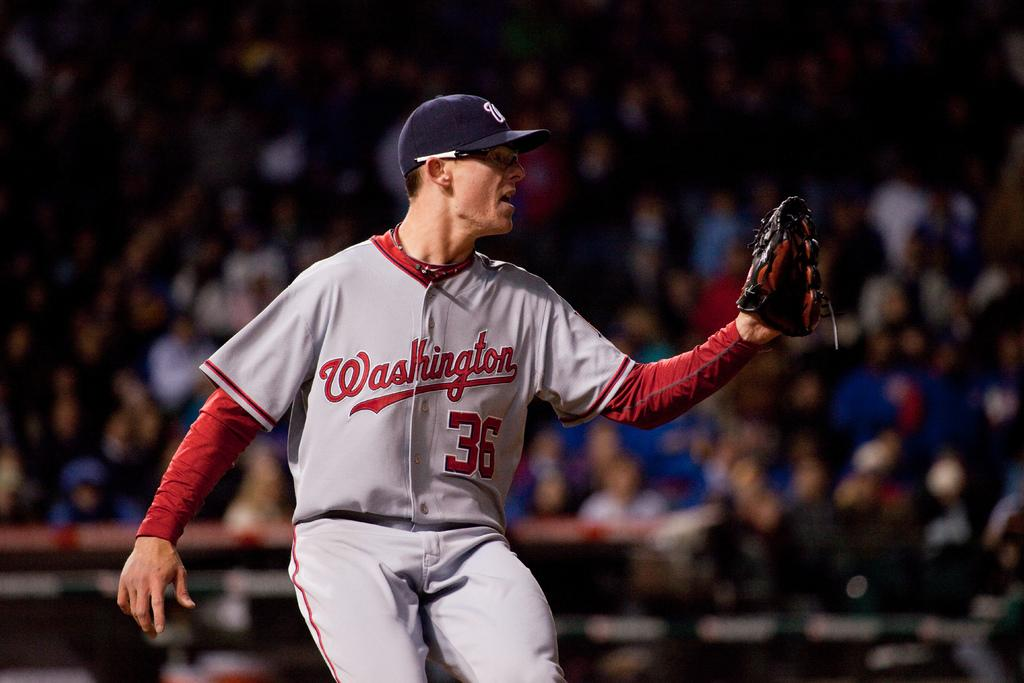Hat: (393, 96, 550, 182)
